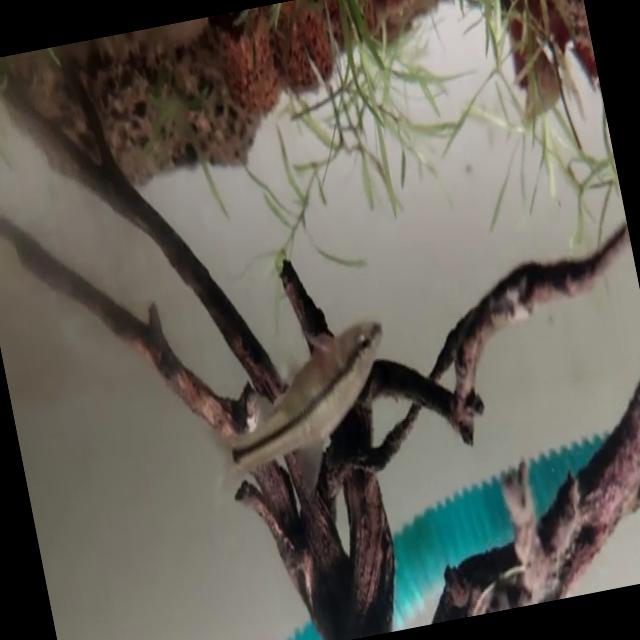Cakil Baligi: (183, 296, 412, 514)
